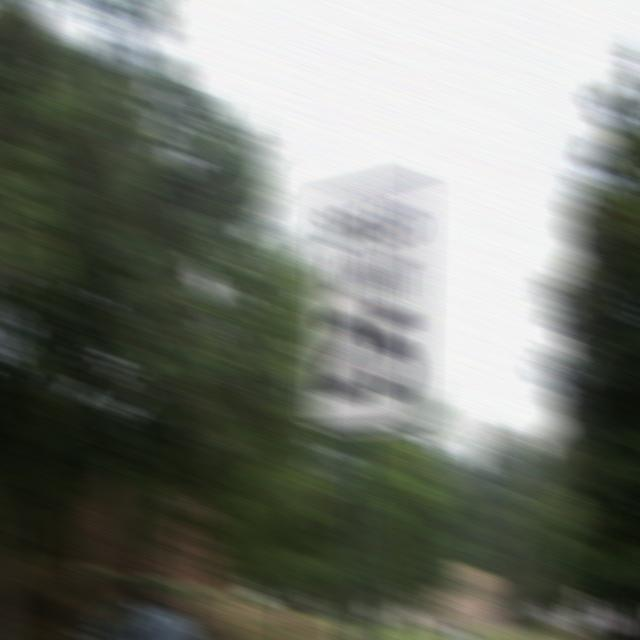speedLimit25: (316, 202, 422, 412)
